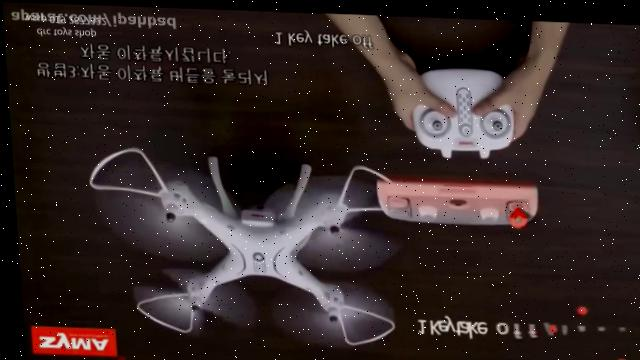drone: (82, 143, 403, 347)
